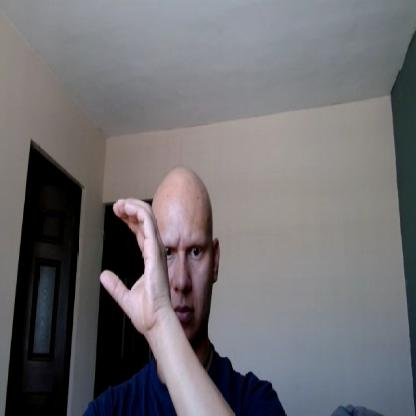C: (99, 196, 169, 329)
